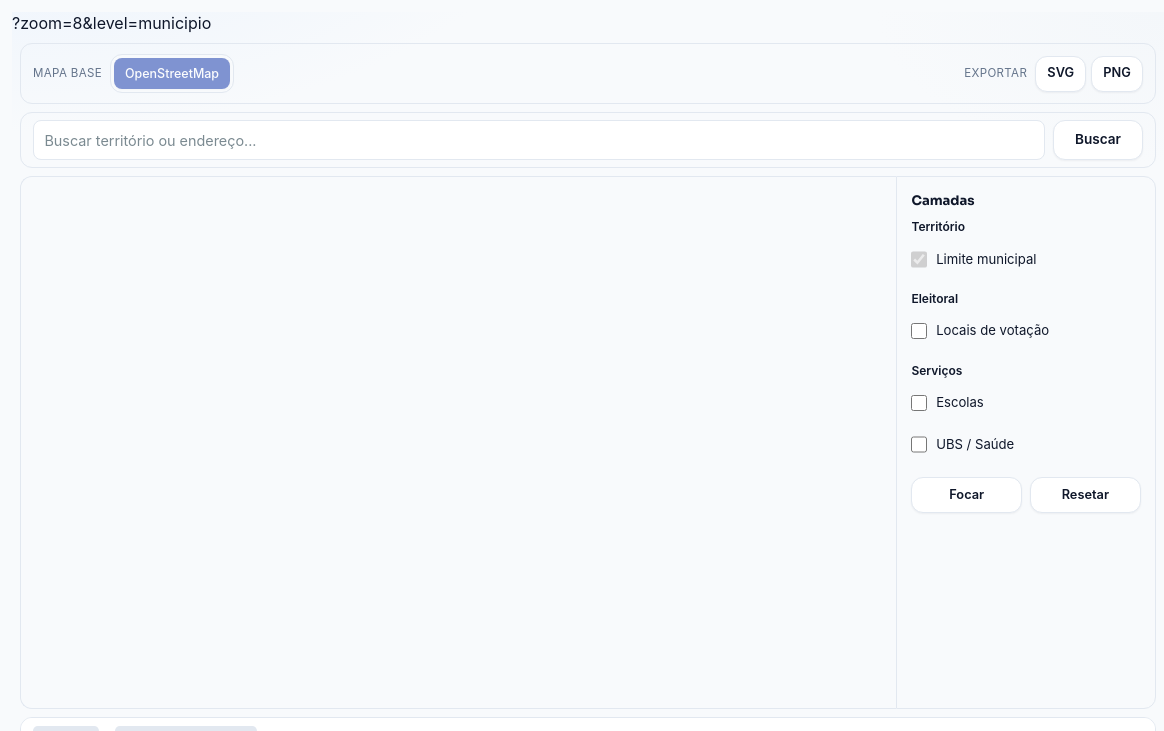
QG pages › focuses territory from quick search and syncs territory_id in URL
Type "Diamantina" into the field labelled "Buscar território" at (539, 140), box [33,120,1045,160]
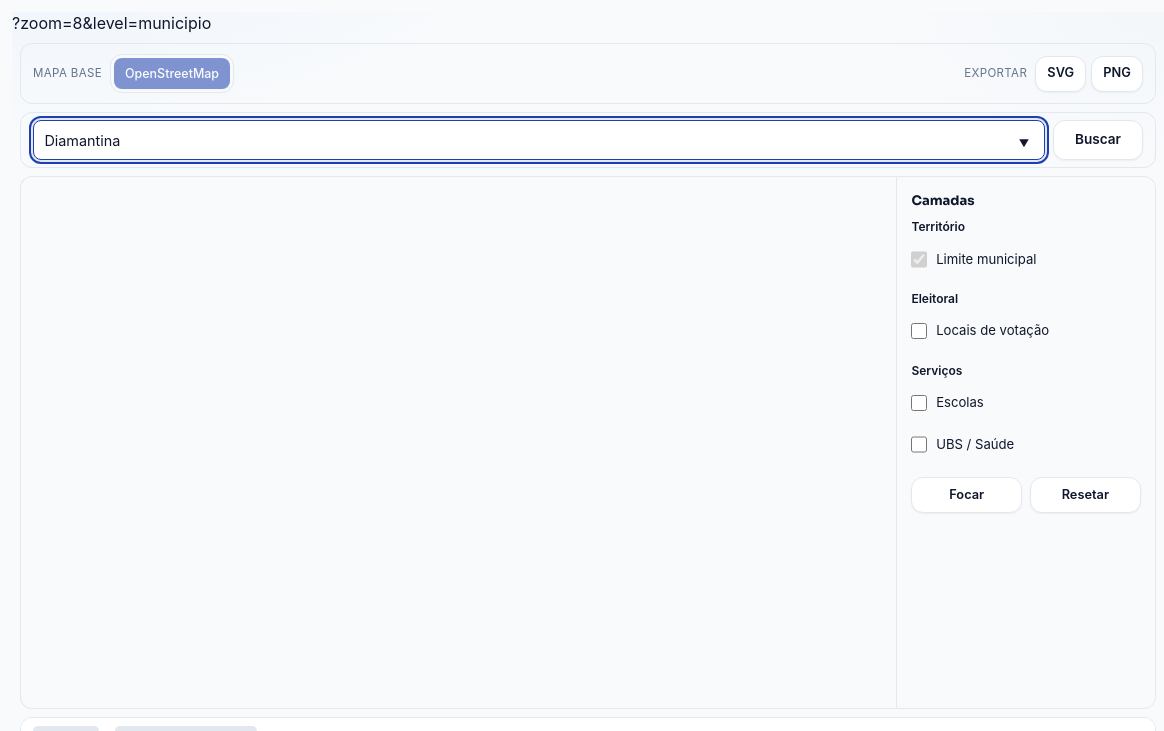
Click the button "Buscar" at (1098, 140), box [1053,120,1143,160]
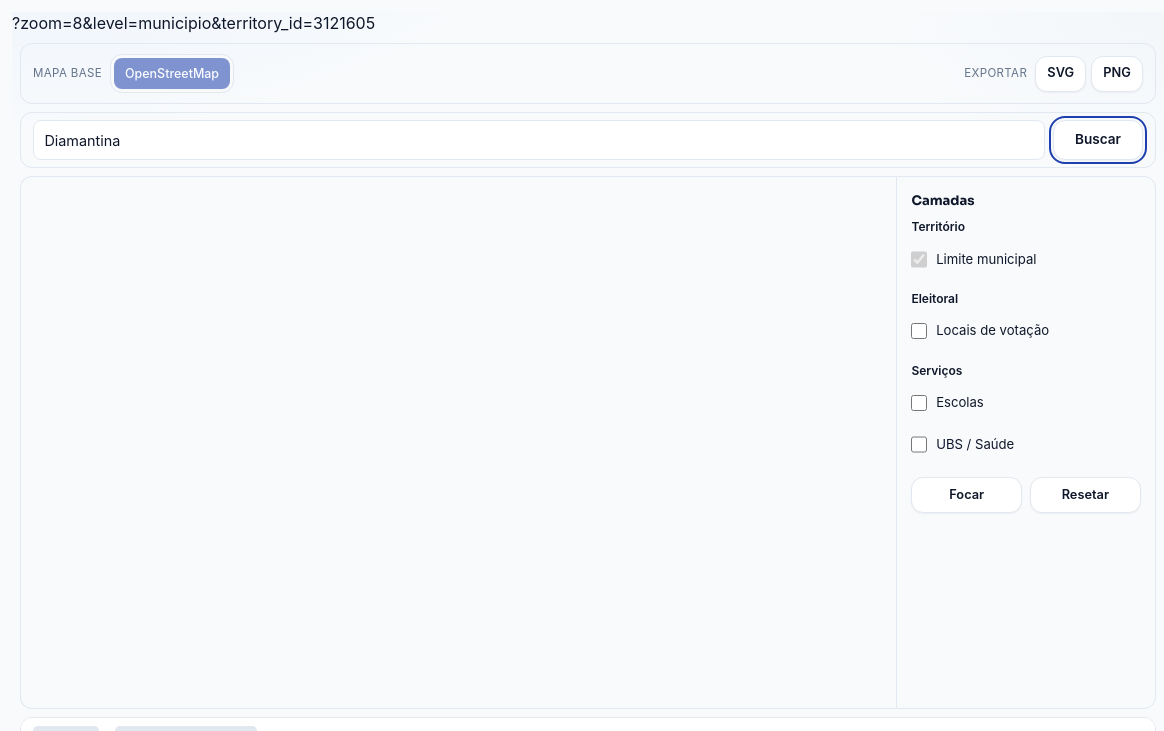
Result: the text with test id "location-search" shows "territory_id=3121605" at [12,13,375,33]
